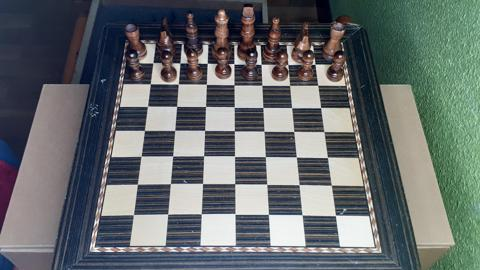xcorner: (147, 57, 156, 66), (142, 102, 151, 111), (135, 153, 144, 162), (132, 181, 141, 190), (128, 212, 137, 221), (163, 212, 172, 221), (203, 58, 212, 67), (202, 79, 211, 88), (197, 212, 206, 221), (231, 58, 240, 67), (231, 102, 240, 111), (231, 127, 240, 136), (232, 212, 241, 221), (262, 127, 271, 136), (265, 182, 274, 191), (288, 80, 297, 89), (290, 103, 299, 112), (314, 59, 323, 68), (317, 80, 326, 89), (320, 103, 329, 112), (145, 79, 153, 88), (139, 126, 147, 135), (175, 58, 184, 66), (174, 79, 182, 88), (172, 102, 180, 111), (168, 153, 176, 162), (165, 182, 174, 190), (202, 102, 210, 111), (201, 127, 209, 136), (200, 153, 208, 162), (231, 80, 240, 88), (232, 153, 240, 162), (232, 182, 240, 191), (259, 58, 267, 67), (260, 80, 268, 89), (261, 103, 270, 111), (263, 154, 272, 162), (266, 213, 275, 221), (286, 59, 295, 67), (293, 127, 301, 136), (295, 154, 304, 162), (298, 182, 306, 191), (323, 128, 332, 136), (327, 154, 335, 163), (331, 182, 339, 191), (170, 127, 178, 135), (199, 182, 207, 190), (301, 213, 309, 221), (335, 213, 343, 221)
